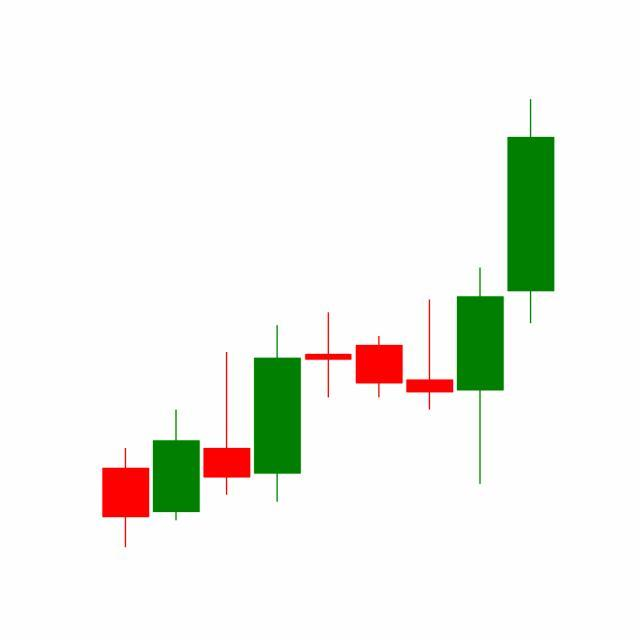Rising-Falling Three Methods: (252, 265, 506, 506)
